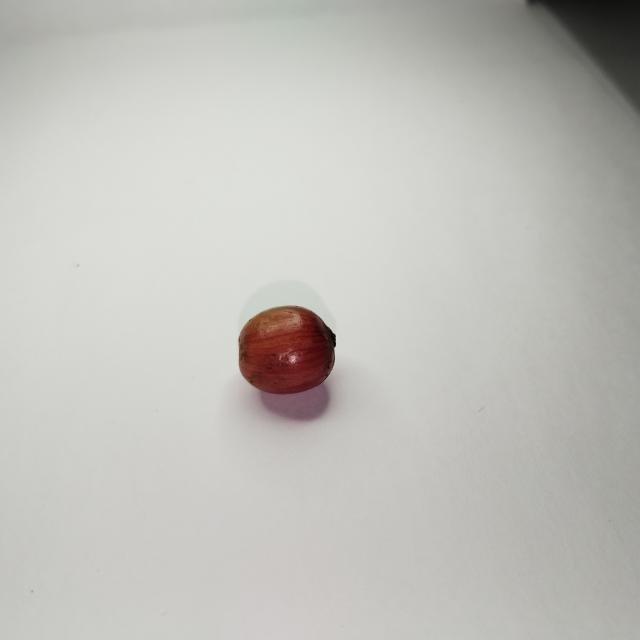Sano: (239, 305, 335, 395)
